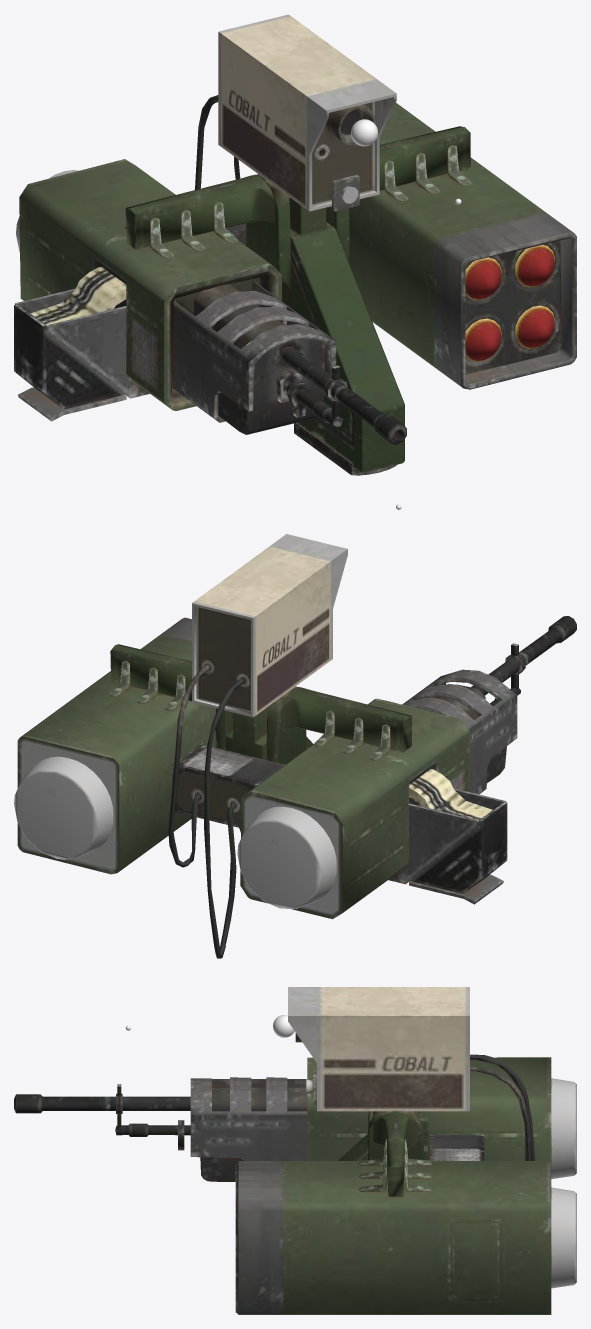
The model's file is sentry.scientist.barge.glb.
3 views of the same model, one above another, from view 1: azimuth 30°, elevation 25°; view 2: azimuth 150°, elevation 25°; view 3: azimuth 270°, elevation 25° (orthographic). The views are drawn at different scales.
Parts seen in each view (by area): view 1: turret.pitch_LOD0, turret.yaw_LOD0, originflare; view 2: turret.pitch_LOD0, turret.yaw_LOD0; view 3: turret.pitch_LOD0, turret.yaw_LOD0.
Boxes of the visible parts, x1,y1,x2,y2 form: turret.pitch_LOD0: [14, 14, 576, 444]; turret.yaw_LOD0: [282, 198, 404, 475]; originflare: [351, 119, 377, 146]; turret.pitch_LOD0: [14, 534, 576, 958]; turret.yaw_LOD0: [225, 707, 313, 832]; turret.pitch_LOD0: [14, 987, 576, 1314]; turret.yaw_LOD0: [338, 1111, 428, 1160].
Size of the model in its own units: 1.36 by 1.07 by 1.74.
2 materials, 1 textured.
